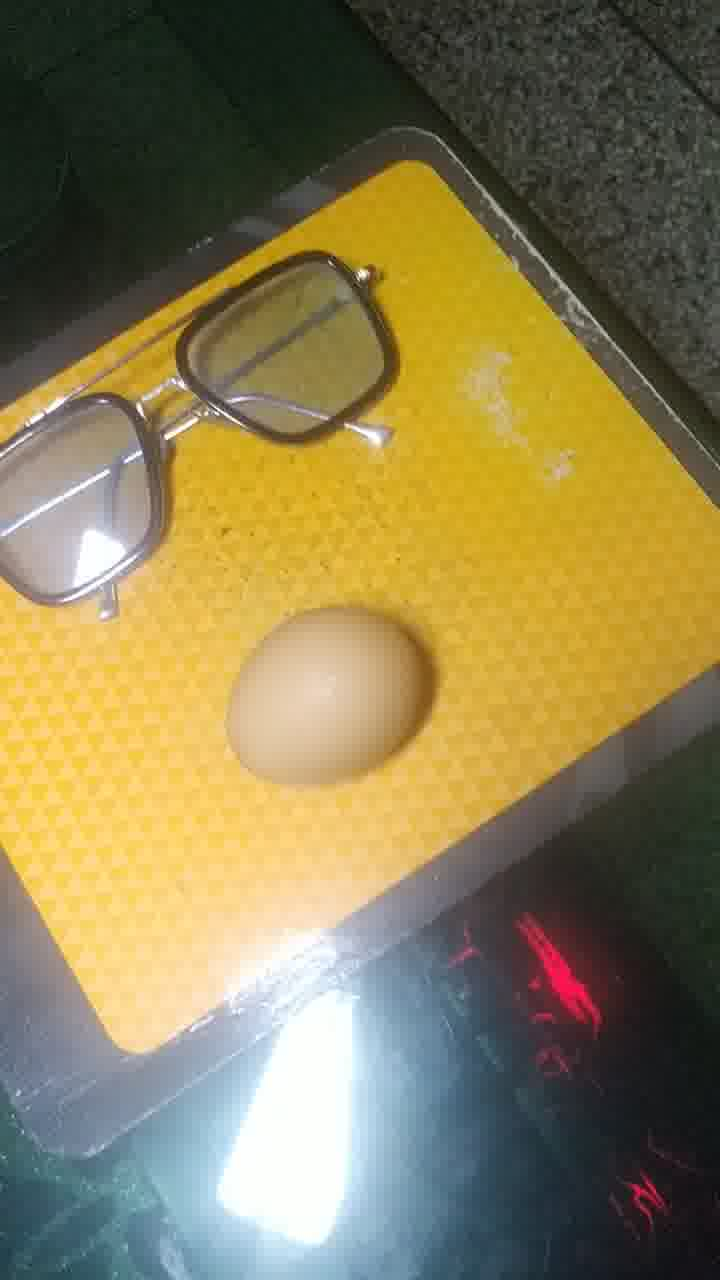egg: (223, 596, 434, 784)
sunglass: (6, 233, 403, 618)
